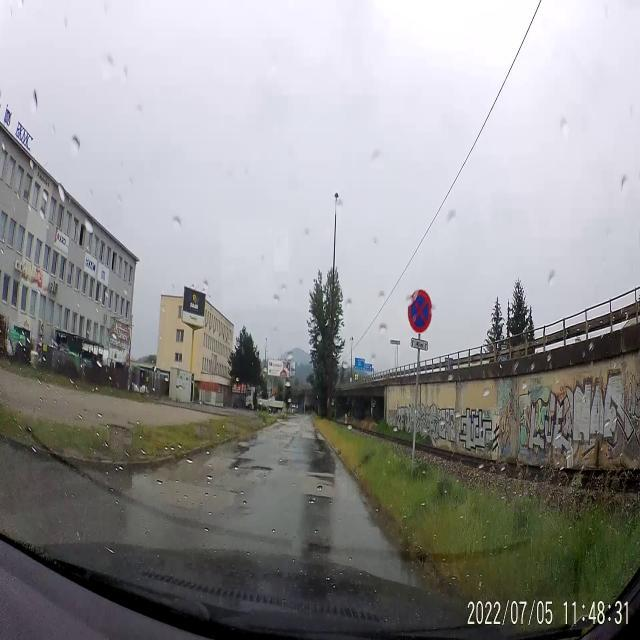Pothole: (302, 535, 336, 563), (250, 462, 275, 478), (234, 442, 250, 457)
